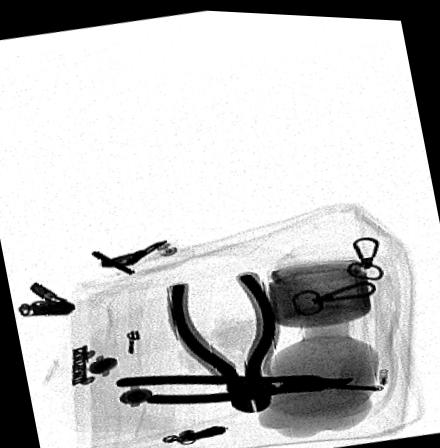Pliers: (159, 269, 280, 411), (104, 367, 390, 405)
